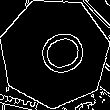O_SW: (23, 23, 86, 83)
